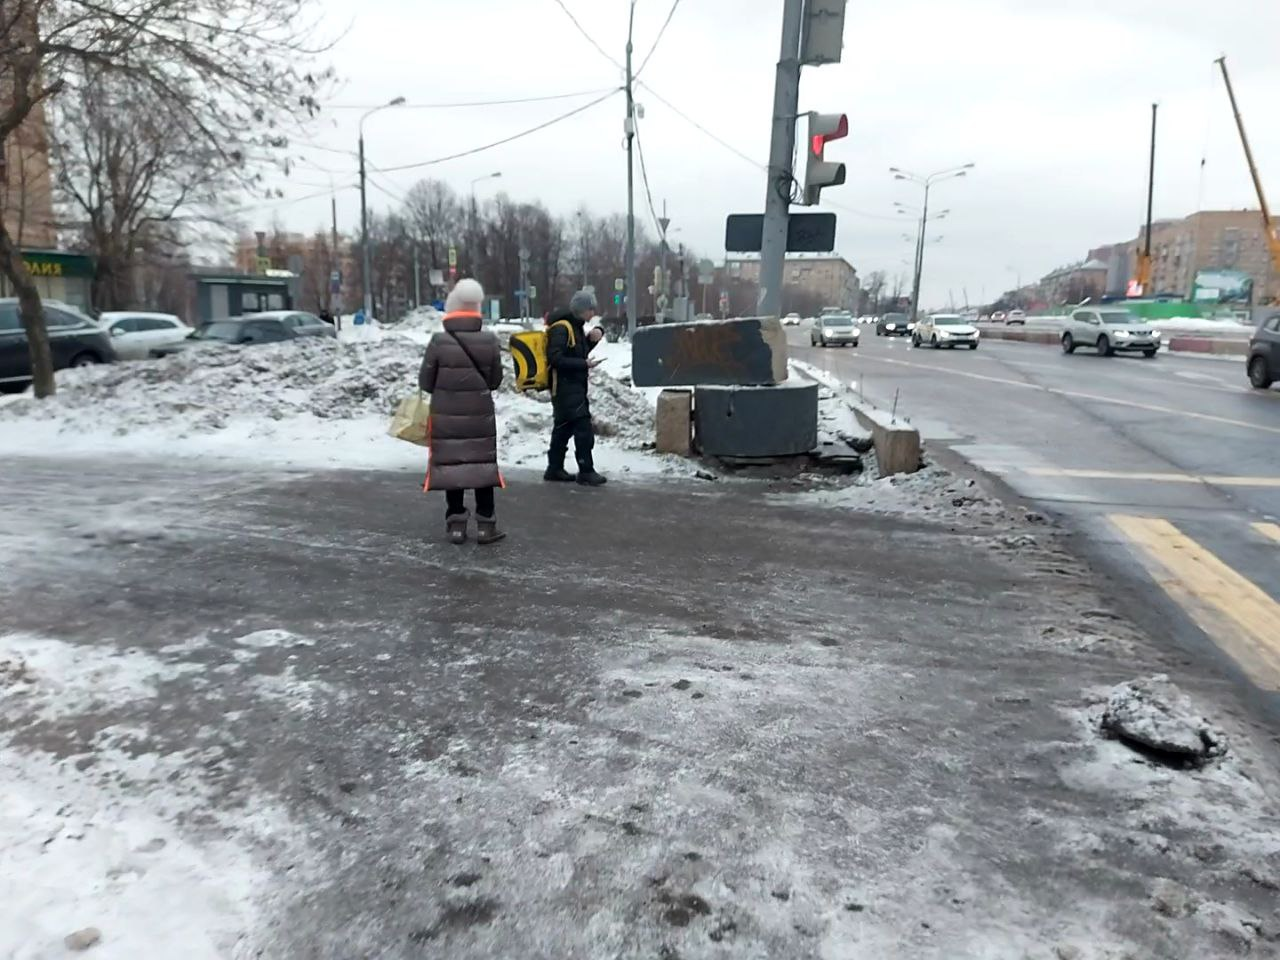sombie: (498, 280, 634, 499)
